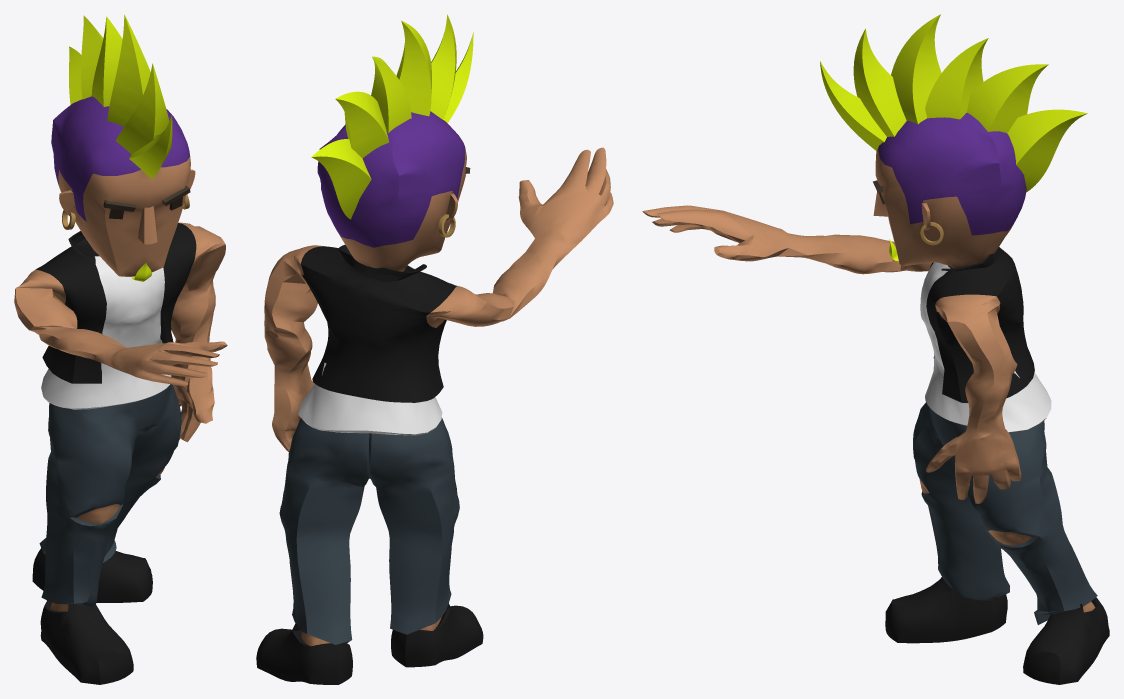
The model's file is av-dj-torcida.glb.
The picture shows the model from 3 angles, left to right: view 1: azimuth 30°, elevation 25°; view 2: azimuth 150°, elevation 25°; view 3: azimuth 270°, elevation 25°; orthographic projection. The views are drawn at different scales.
Visible parts, largest first — view 1: Punk_Body; view 2: Punk_Body; view 3: Punk_Body.
Boxes of the visible parts, left/top/right/bottom form: Punk_Body: left=14, top=14, right=227, bottom=684; Punk_Body: left=256, top=14, right=613, bottom=684; Punk_Body: left=642, top=14, right=1109, bottom=684.
Size of the model in its own units: 0.5522 by 1.53 by 1.02.
1 material, 1 textured.
